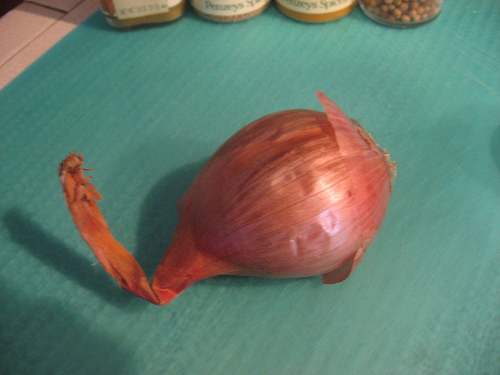onion: (55, 91, 395, 305)
